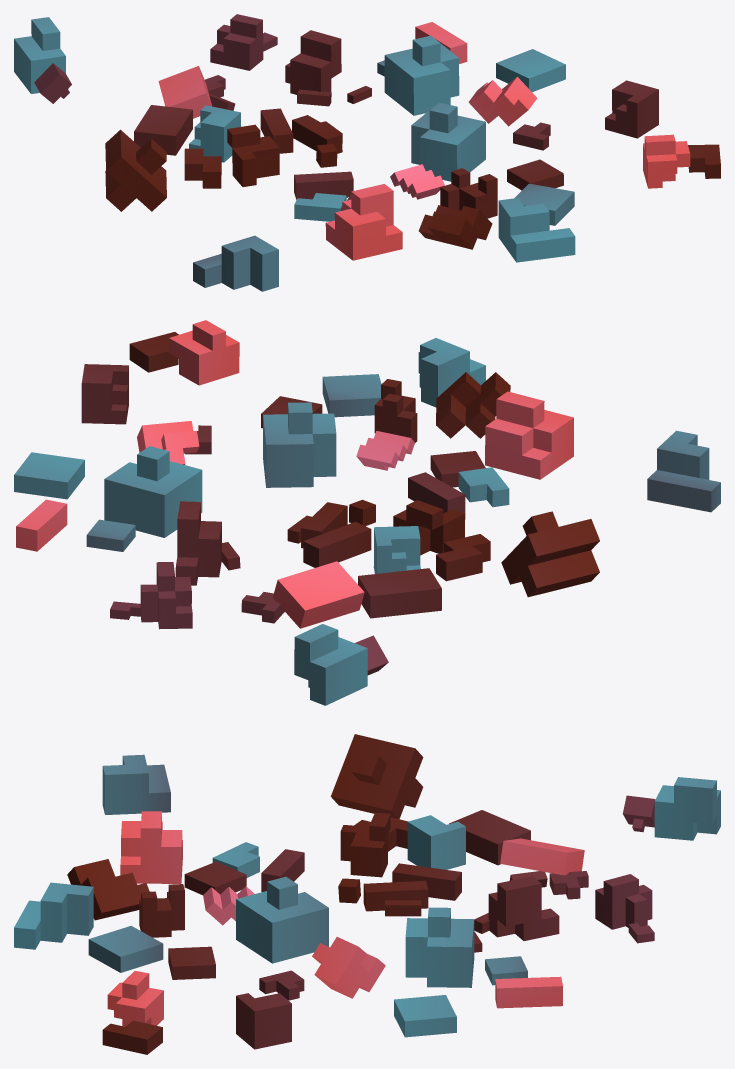
File: Destruction.fbx
3 renders of one model, top to bottom at view 1: azimuth 30°, elevation 25°; view 2: azimuth 150°, elevation 25°; view 3: azimuth 270°, elevation 25°, orthographic. The views are drawn at different scales.
Visible parts, largest first — view 1: Destruction; view 2: Destruction; view 3: Destruction.
Part boxes in pixels (x1,y1,x2,y2): Destruction: [14, 14, 720, 291]; Destruction: [14, 320, 720, 705]; Destruction: [14, 734, 720, 1054].
Size of the model in its own units: 273 by 29.46 by 300.
